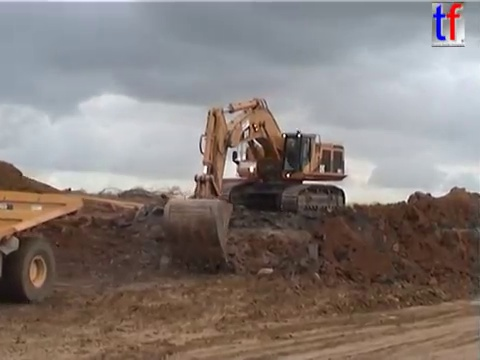excavator: (159, 94, 350, 275)
truck: (1, 185, 86, 307), (197, 170, 288, 208)
